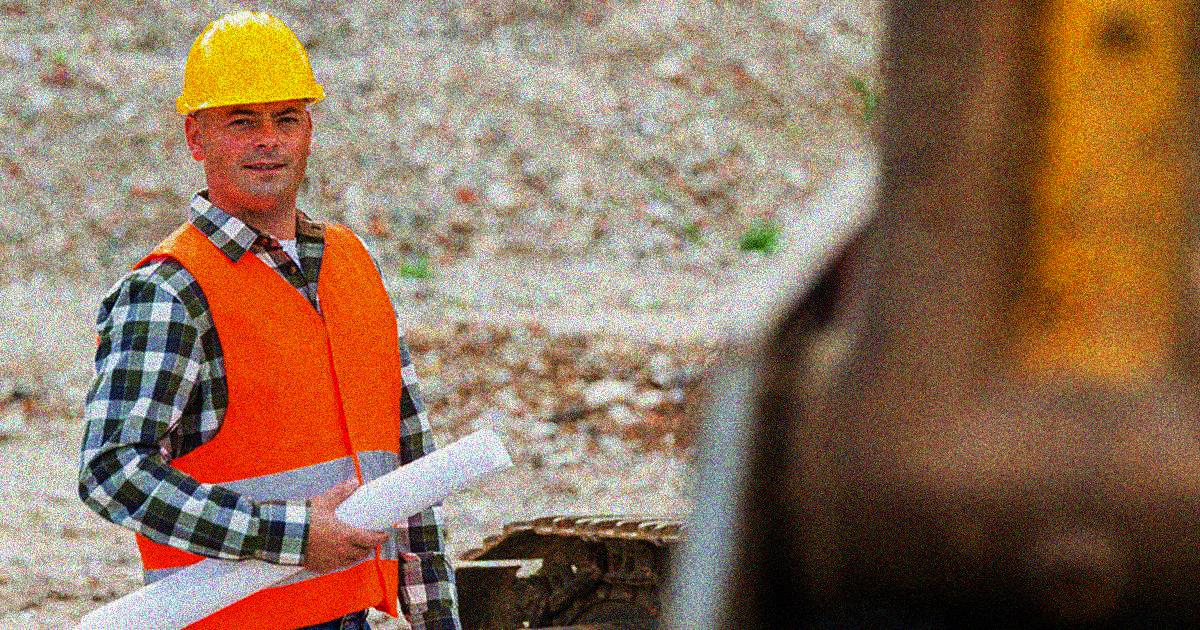helmet: (172, 8, 324, 205)
